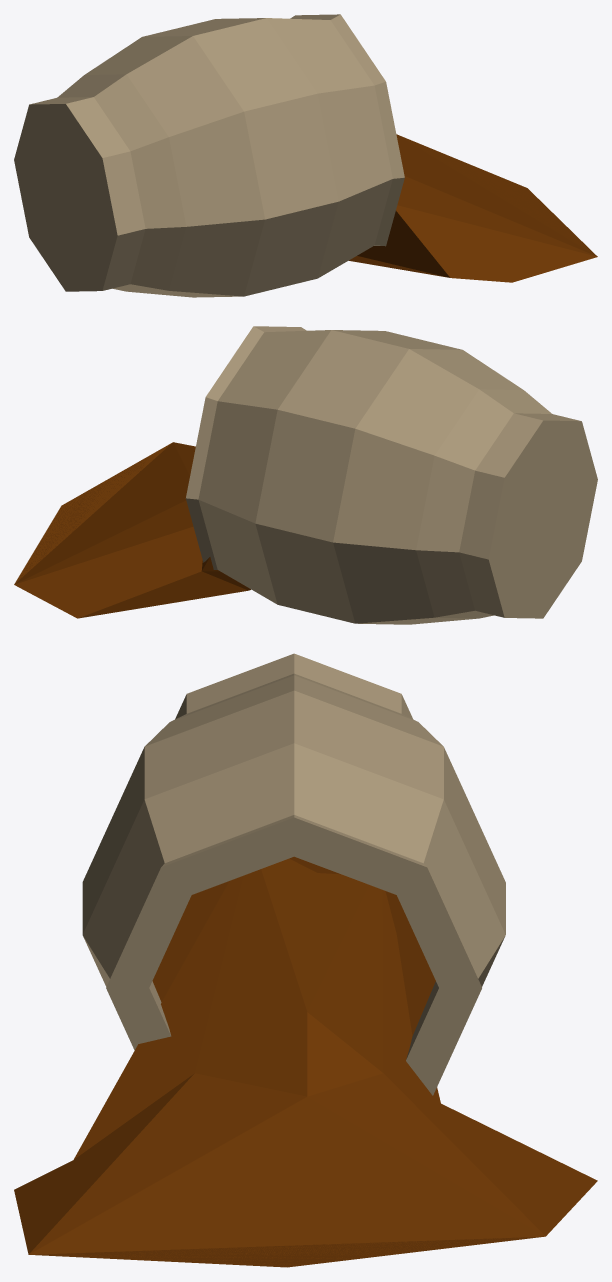
The model's file is FallenVase.fbx.
The picture shows the model from 3 angles, top to bottom: view 1: azimuth 30°, elevation 25°; view 2: azimuth 150°, elevation 25°; view 3: azimuth 270°, elevation 25°; orthographic projection. The views are drawn at different scales.
Visible parts, largest first — view 1: FallenVase; view 2: FallenVase; view 3: FallenVase.
Boxes of the visible parts, x1,y1,x2,y2 form: FallenVase: (14, 14, 597, 297); FallenVase: (14, 326, 597, 624); FallenVase: (14, 653, 597, 1267).
Bounding box in the file's own units: 122 × 66.69 × 91.88.
